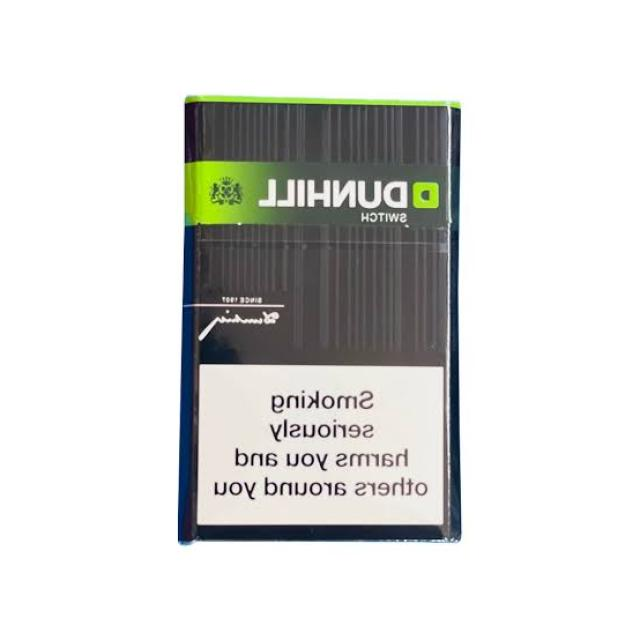dunhill: (171, 91, 466, 554)
